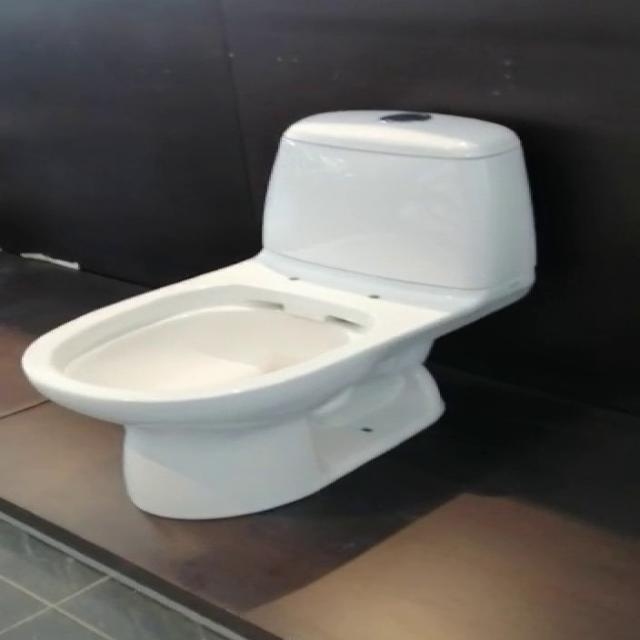toilet: (19, 108, 536, 520)
